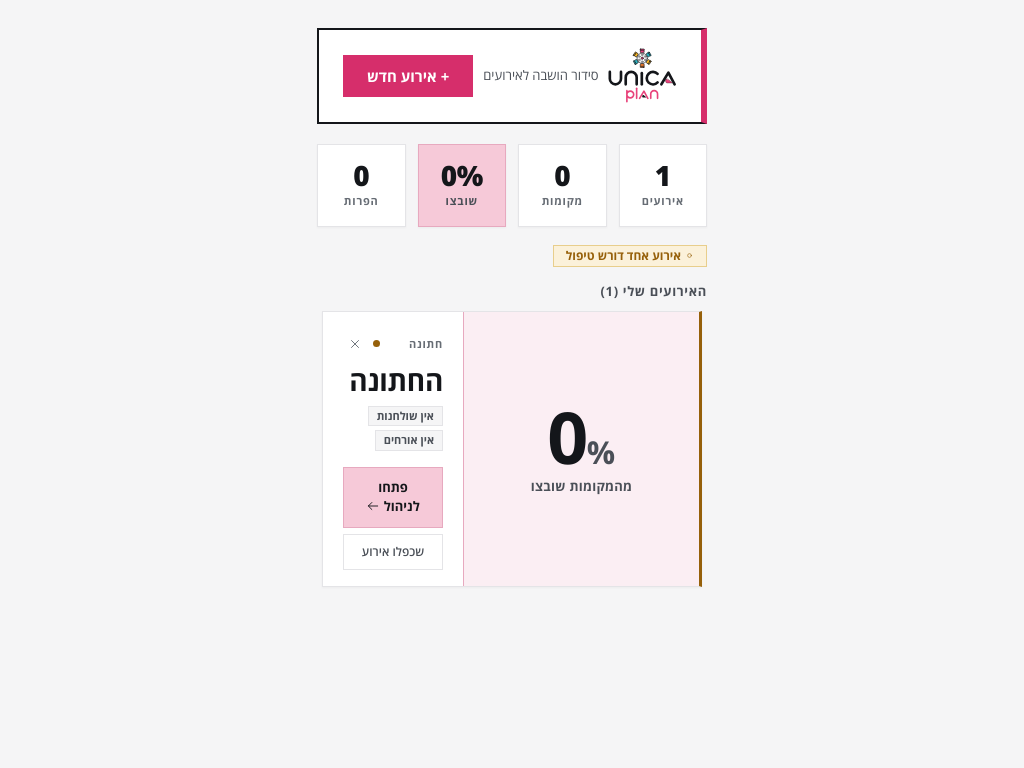
Scenario: deleting a paid event says what goes with it › free: no package line
Click the button titled "מחקו אירוע": click(355, 344) top-left (343, 332), bottom-right (367, 356)
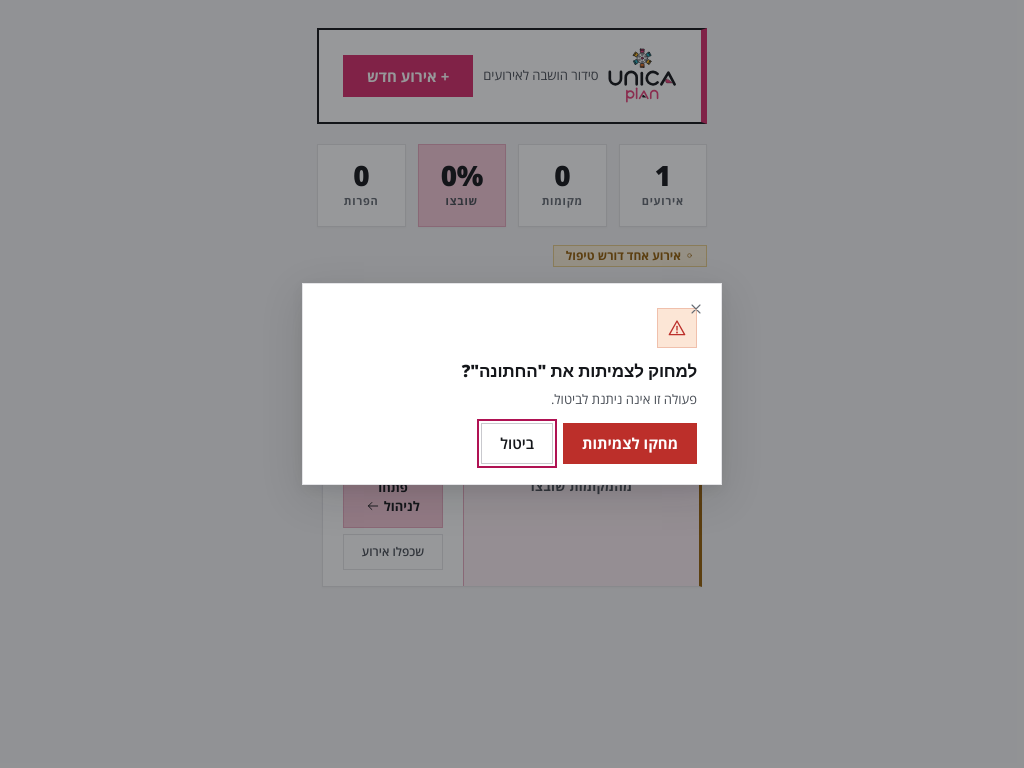
Expected: the heading "למחוק לצמיתות את \"החתונה\"?" is shown, top-left (462, 359), bottom-right (697, 382)
